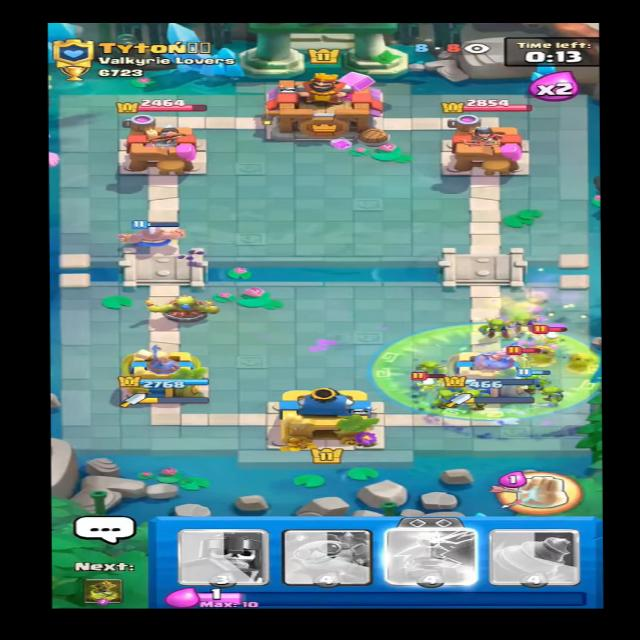Skeleton: (414, 372, 447, 394), (535, 327, 567, 342)
